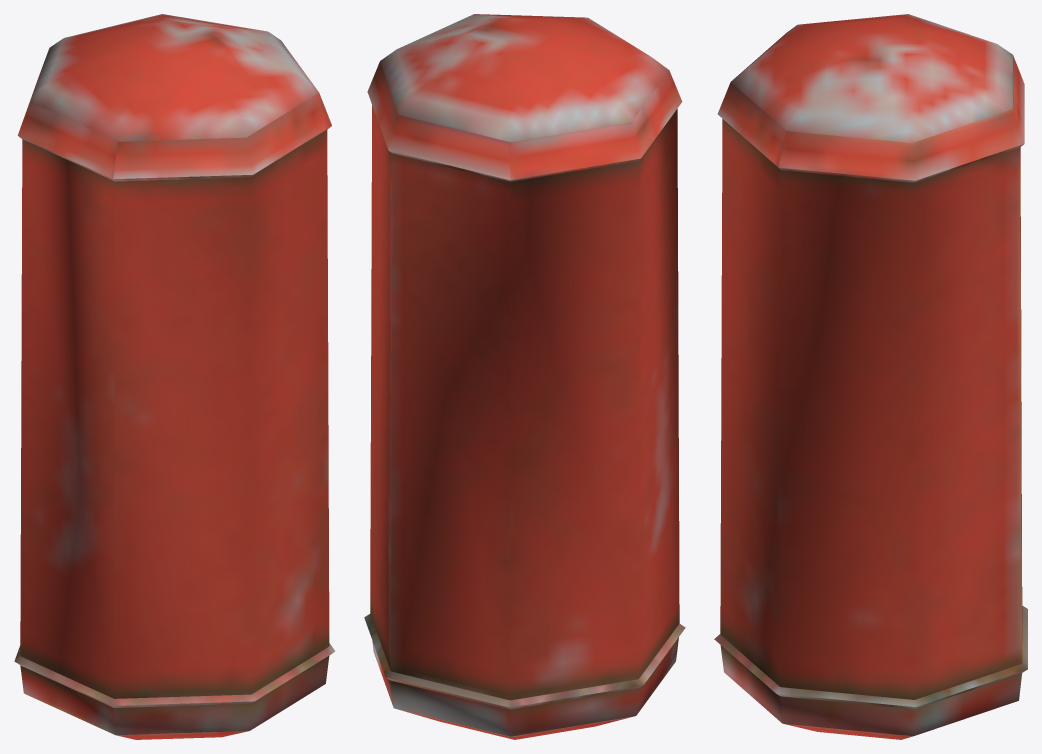
File: junk_08-v1.glb
The picture shows the model from 3 angles, left to right: view 1: azimuth 30°, elevation 25°; view 2: azimuth 150°, elevation 25°; view 3: azimuth 270°, elevation 25°; orthographic projection.
Parts seen in each view (by area): view 1: junk_08; view 2: junk_08; view 3: junk_08.
Boxes of the visible parts, left/top/right/bottom form: junk_08: left=14, top=14, right=335, bottom=739; junk_08: left=364, top=14, right=685, bottom=739; junk_08: left=714, top=14, right=1027, bottom=739.
Bounding box in the file's own units: 1.21 × 2.73 × 1.18.
Materials: 1 (1 with a texture image).
